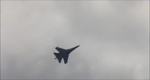maybay_muctieu: (52, 43, 80, 64)
